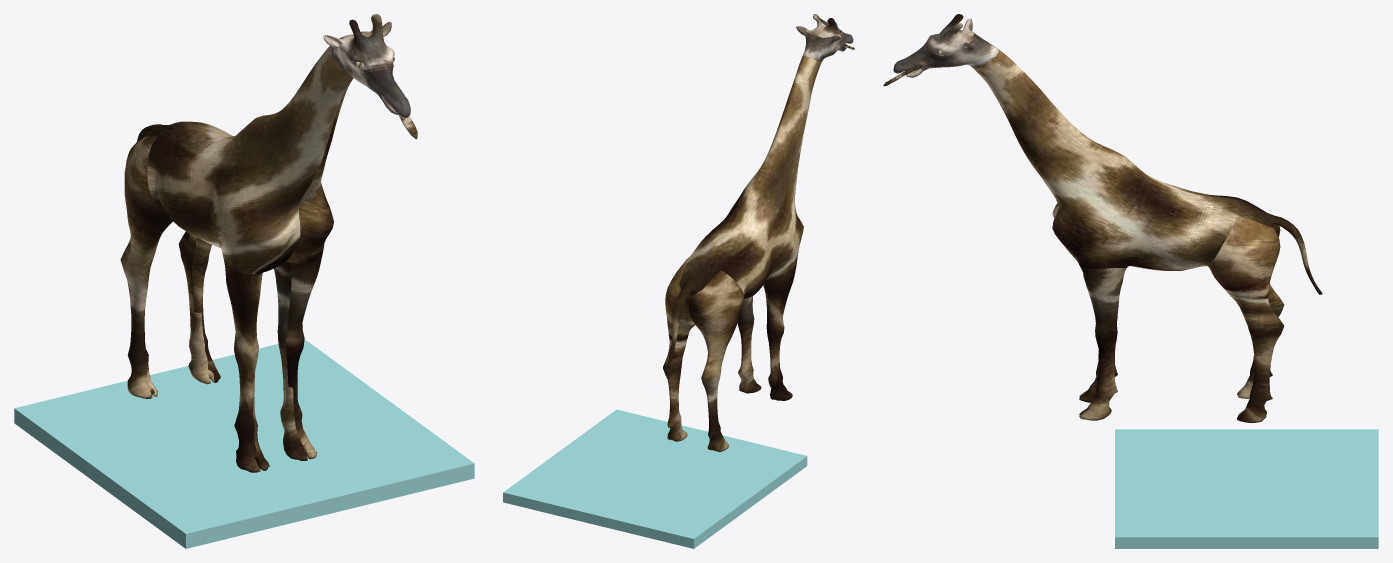
File: jirafa.DAE
The picture shows the model from 3 angles, left to right: view 1: azimuth 30°, elevation 25°; view 2: azimuth 150°, elevation 25°; view 3: azimuth 270°, elevation 25°; orthographic projection. The views are drawn at different scales.
Parts seen in each view (by area): view 1: Box001, default; view 2: default, Box001; view 3: default, Box001.
Part boxes in pixels (box(x1,y1,x2,y2)): Box001: box(14, 339, 474, 548); default: box(120, 14, 417, 472); default: box(663, 14, 854, 452); Box001: box(503, 409, 807, 548); default: box(883, 14, 1322, 422); Box001: box(1115, 429, 1378, 548).
Bounding box in the file's own units: 128 × 247 × 248.
2 materials, 1 textured.
